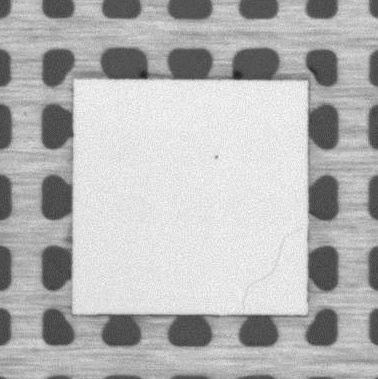DIE_INK: (211, 152, 221, 162)
